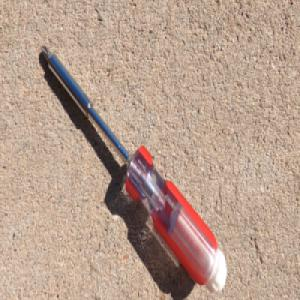Screwdriver: (40, 42, 230, 296)
